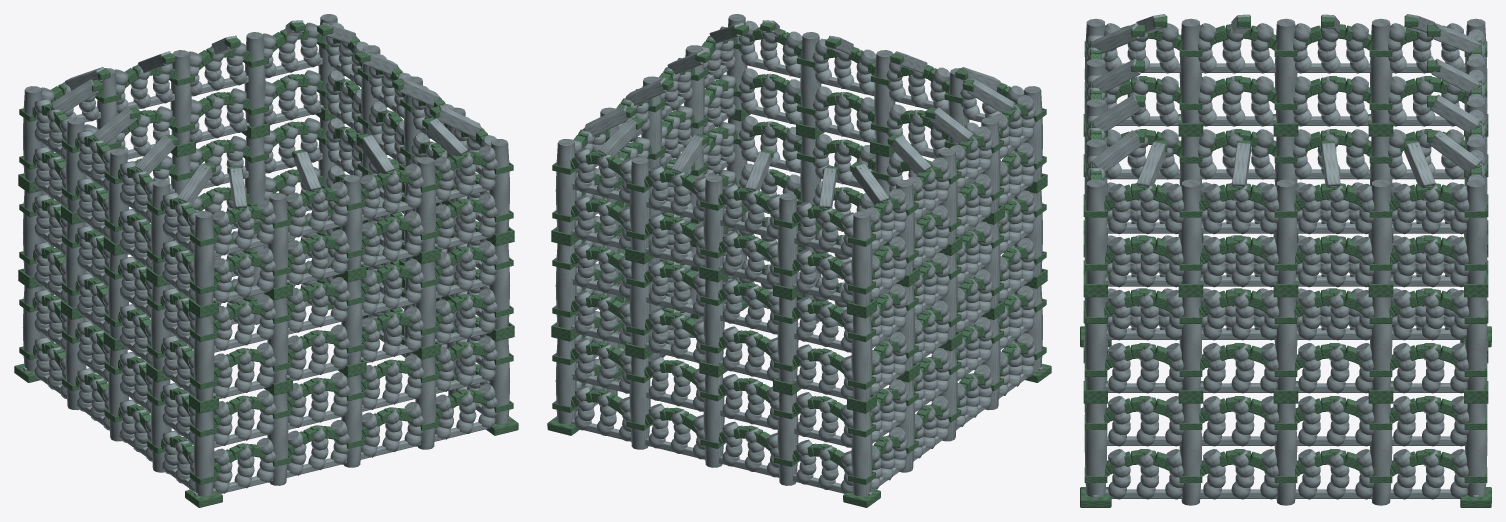
The picture shows the model from 3 angles, left to right: view 1: azimuth 30°, elevation 25°; view 2: azimuth 150°, elevation 25°; view 3: azimuth 270°, elevation 25°; orthographic projection. The views are drawn at different scales.
Visible parts, largest first — view 1: Tier 2 side 0 post 0, Tier 2 side 2 post 1, Tier 0 side 0 post 0, Tier 1 side 0 post 0, Tier 2 side 2 post 2, Tier 2 side 0 post 1, Tier 2 side 0 post 2, Tier 2 side 0 post 3, Tier 2 side 1 post 0, Tier 0 side 0 post 1, Tier 0 side 0 post 2, Tier 0 side 0 post 3 (+32 smaller); view 2: Tier 2 side 3 post 0, Tier 2 side 2 post 3, Tier 2 side 2 post 0, Tier 2 side 2 post 2, Tier 2 side 2 post 1, Tier 0 side 3 post 0, Tier 1 side 3 post 0, Tier 0 side 2 post 3, Tier 0 side 2 post 2, Tier 0 side 2 post 1, Tier 1 side 2 post 3, Tier 0 side 2 post 0 (+31 smaller); view 3: Tier 2 side 1 post 0, Tier 2 side 2 post 0, Tier 2 side 3 post 1, Tier 2 side 3 post 2, Tier 2 side 3 post 3, Tier 2 side 1 post 2, Tier 2 side 1 post 3, Tier 2 side 1 post 1, Tier 0 side 1 post 2, Tier 0 side 1 post 3, Tier 0 side 1 post 1, Tier 1 side 1 post 0 (+21 smaller).
Part boxes in pixels (box(x1,y1,x2,y2)): Tier 2 side 0 post 0: box(193, 211, 214, 306); Tier 2 side 2 post 1: box(244, 32, 265, 127); Tier 0 side 0 post 0: box(193, 410, 214, 496); Tier 1 side 0 post 0: box(193, 315, 214, 401); Tier 2 side 2 post 2: box(170, 50, 191, 145); Tier 2 side 0 post 1: box(267, 193, 288, 288); Tier 2 side 0 post 2: box(341, 175, 362, 270); Tier 2 side 0 post 3: box(415, 157, 436, 252); Tier 2 side 1 post 0: box(489, 139, 509, 233); Tier 0 side 0 post 1: box(267, 393, 288, 485); Tier 0 side 0 post 2: box(341, 374, 362, 467); Tier 0 side 0 post 3: box(415, 356, 436, 449); Tier 2 side 3 post 0: box(851, 211, 872, 306); Tier 2 side 2 post 3: box(777, 193, 798, 288); Tier 2 side 2 post 0: box(555, 139, 576, 233); Tier 2 side 2 post 2: box(703, 175, 724, 270); Tier 2 side 2 post 1: box(629, 157, 650, 252); Tier 0 side 3 post 0: box(851, 410, 872, 496); Tier 1 side 3 post 0: box(851, 315, 872, 401); Tier 0 side 2 post 3: box(777, 392, 798, 485); Tier 0 side 2 post 2: box(703, 374, 724, 467); Tier 0 side 2 post 1: box(629, 356, 650, 449); Tier 1 side 2 post 3: box(777, 297, 798, 383); Tier 0 side 2 post 0: box(555, 338, 576, 424); Tier 2 side 1 post 0: box(1084, 179, 1106, 283); Tier 2 side 2 post 0: box(1465, 179, 1487, 283); Tier 2 side 3 post 1: box(1370, 18, 1392, 123); Tier 2 side 3 post 2: box(1274, 18, 1297, 123); Tier 2 side 3 post 3: box(1179, 18, 1201, 123); Tier 2 side 1 post 2: box(1274, 179, 1297, 283); Tier 2 side 1 post 3: box(1370, 179, 1392, 283); Tier 2 side 1 post 1: box(1179, 179, 1201, 283); Tier 0 side 1 post 2: box(1274, 403, 1297, 505); Tier 0 side 1 post 3: box(1370, 403, 1392, 505); Tier 0 side 1 post 1: box(1179, 403, 1201, 505); Tier 1 side 1 post 0: box(1084, 297, 1106, 390).
Size of the model in its own units: 1.95 by 1.79 by 1.95.
Materials: 2 (2 with a texture image).
